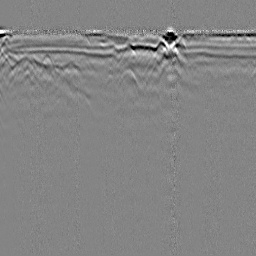cavity: (117, 67, 139, 88)
